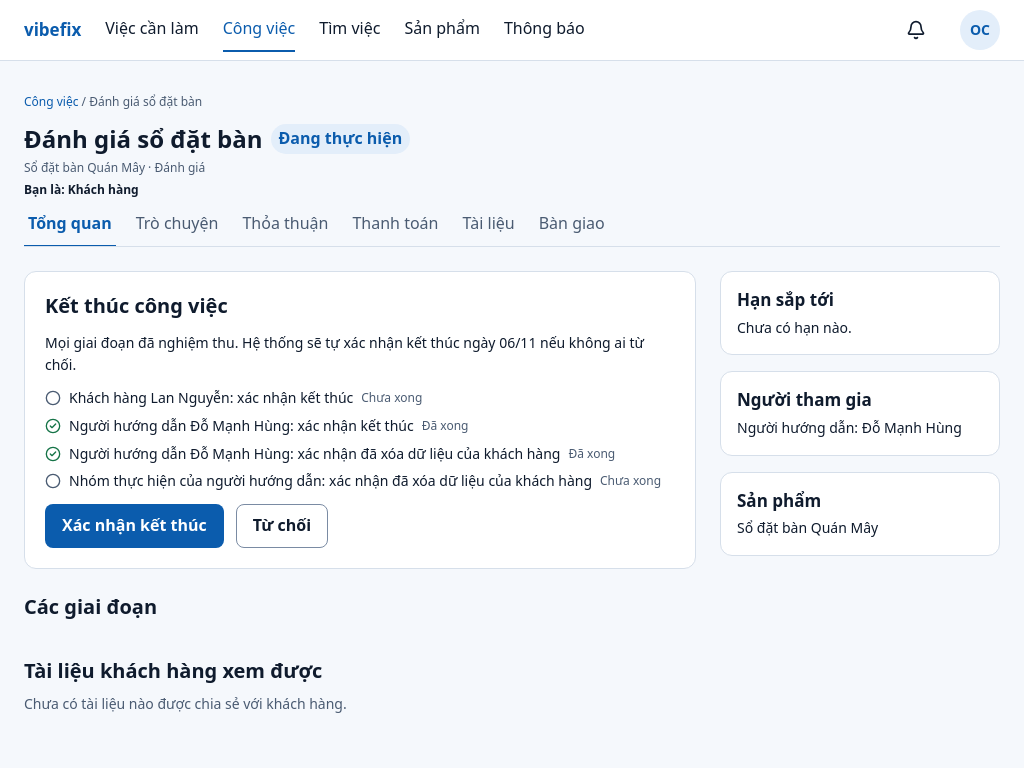
Test: JOB-1 closure section (FR-37, FR-67, UX-DR55) › lets the Customer confirm the System’s proposal and lists every party’s steps
The image size is (1024, 768).
Check: the text "Hệ thống sẽ tự xác nhận kết thúc ngày 06/11" is shown, box [45,333,644,374]
Check: the text "Khách hàng Lan Nguyễn: xác nhận kết thúc" is shown, box [69,387,353,409]
Click the button "Xác nhận kết thúc".
click(134, 526)  # box [45,504,224,548]
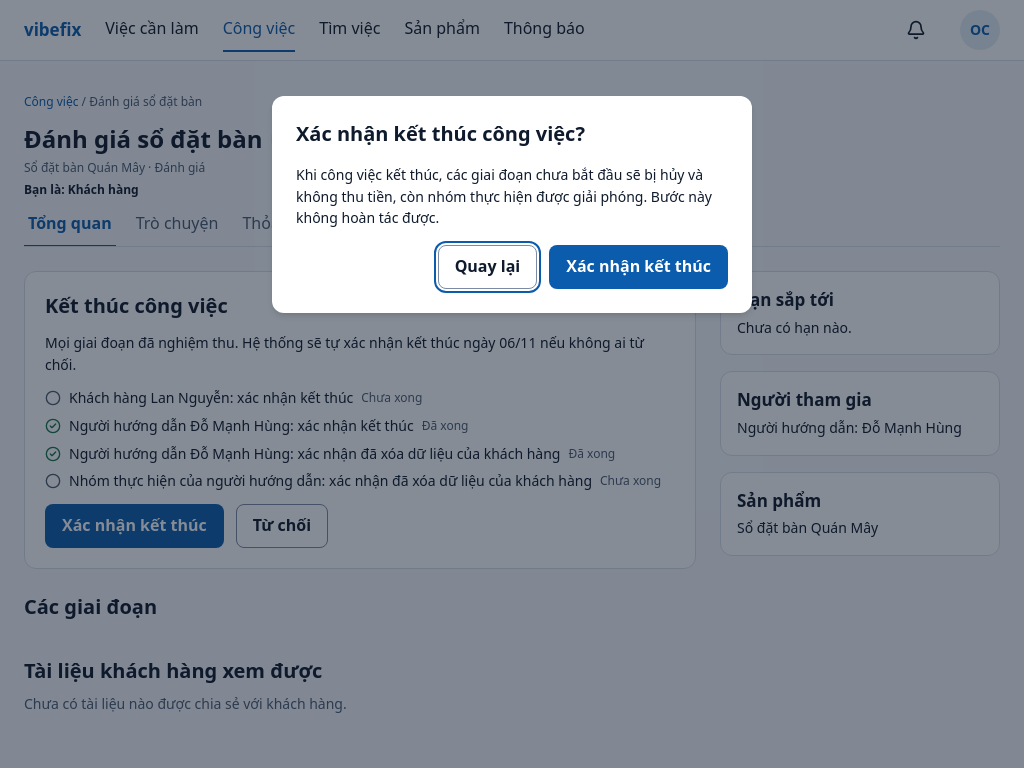
Check: the text "không hoàn tác được" is shown, box [296,165,712,227]
Click the button "Xác nhận kết thúc".
click(639, 267)  # box [549,245,728,289]
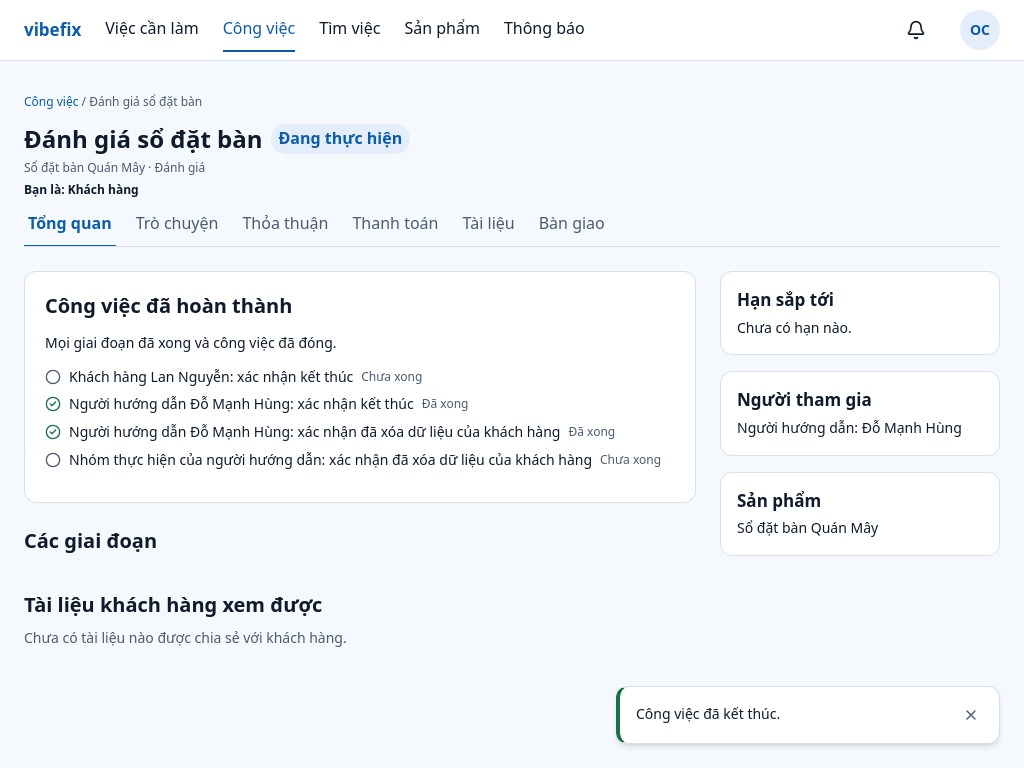
Check: the heading "Công việc đã hoàn thành" is shown, box [45,292,292,319]
